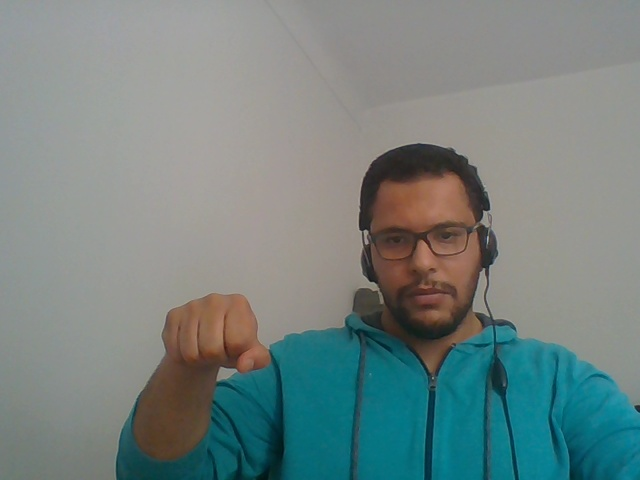yes: (142, 263, 282, 388)
